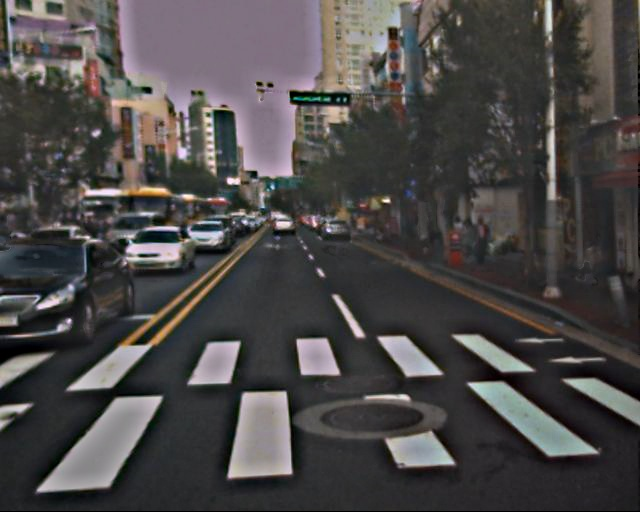person: (576, 240, 612, 280), (471, 218, 492, 270), (459, 219, 478, 265), (423, 214, 438, 251), (411, 214, 423, 244)
